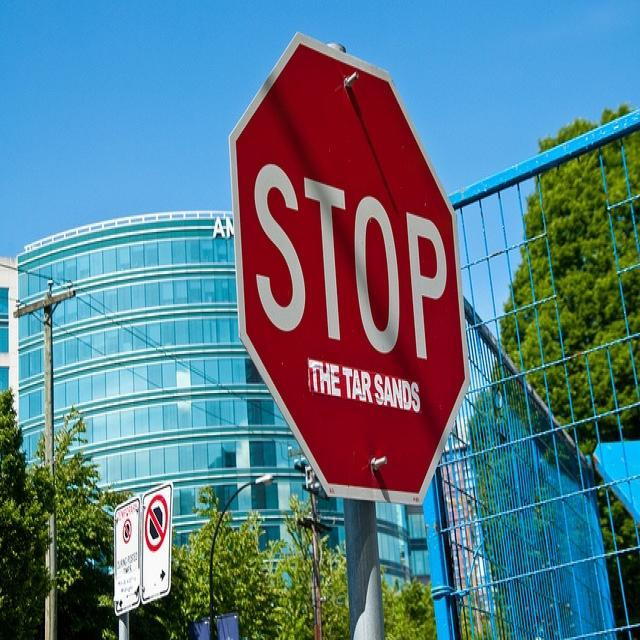pole: (36, 288, 61, 637), (341, 485, 386, 638)
